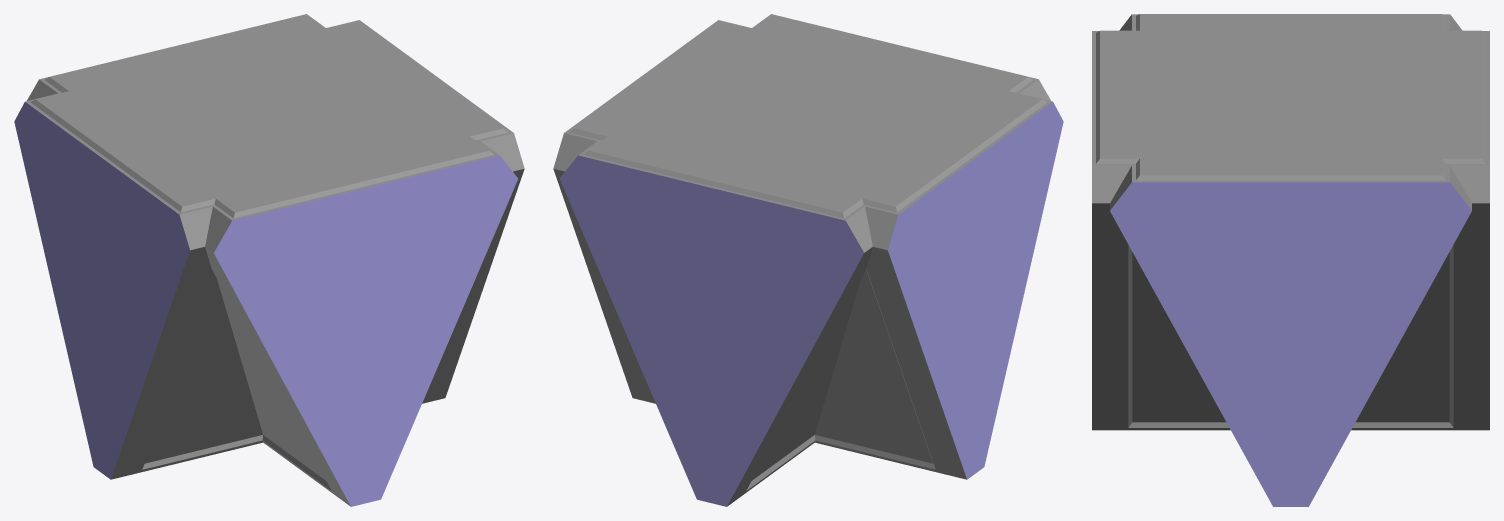
Rendered from SZ_BridgeCross.FBX.
3 renders of one model, left to right at view 1: azimuth 30°, elevation 25°; view 2: azimuth 150°, elevation 25°; view 3: azimuth 270°, elevation 25°, orthographic. The views are drawn at different scales.
Visible parts, largest first — view 1: SZ_BridgeCross; view 2: SZ_BridgeCross; view 3: SZ_BridgeCross.
Boxes of the visible parts, bbox=[...] form: SZ_BridgeCross: bbox=[14, 14, 524, 506]; SZ_BridgeCross: bbox=[553, 14, 1063, 506]; SZ_BridgeCross: bbox=[1092, 14, 1489, 506].
Bounding box in the file's own units: 100 × 100 × 91.06.
